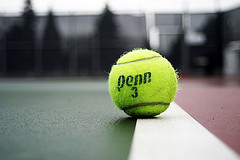tennis ball: (106, 47, 178, 119)
